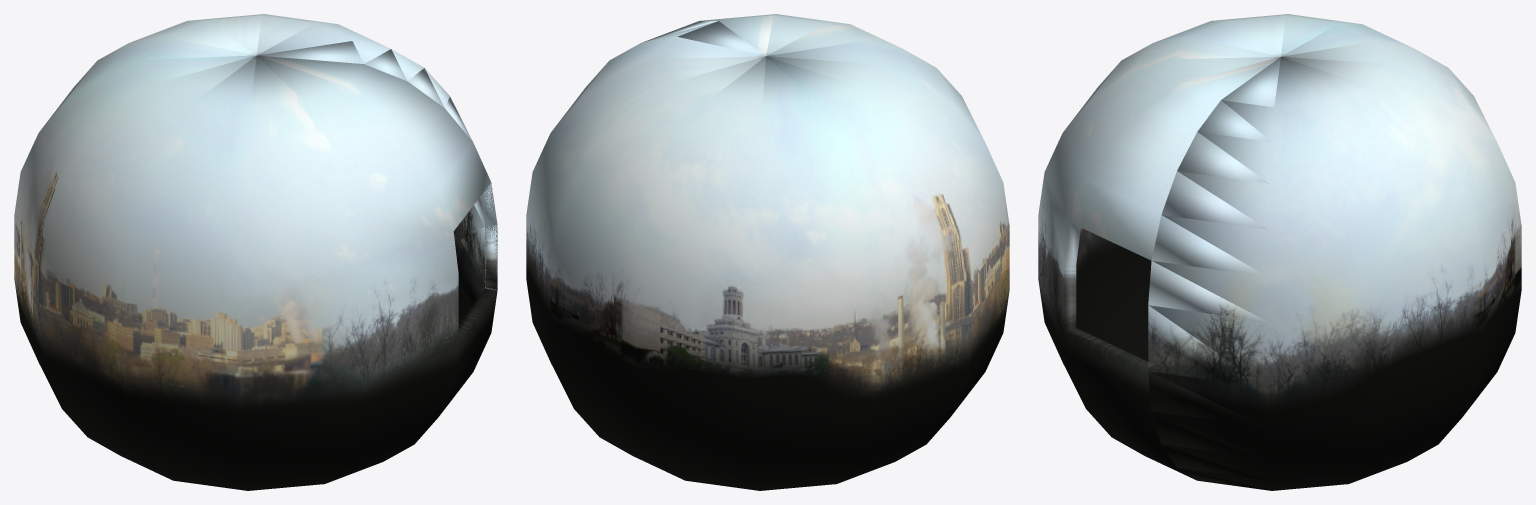
The model's file is cmu-campus-collider.glb.
3 renders of one model, left to right at view 1: azimuth 30°, elevation 25°; view 2: azimuth 150°, elevation 25°; view 3: azimuth 270°, elevation 25°, orthographic.
Parts seen in each view (by area): view 1: ChamferCyl; view 2: ChamferCyl; view 3: ChamferCyl.
Part boxes in pixels (left/top/right/bottom): ChamferCyl: left=14, top=14, right=497, bottom=490; ChamferCyl: left=526, top=14, right=1009, bottom=490; ChamferCyl: left=1038, top=14, right=1521, bottom=490.
Size of the model in its own units: 469 by 421 by 469.
1 material, 1 textured.
